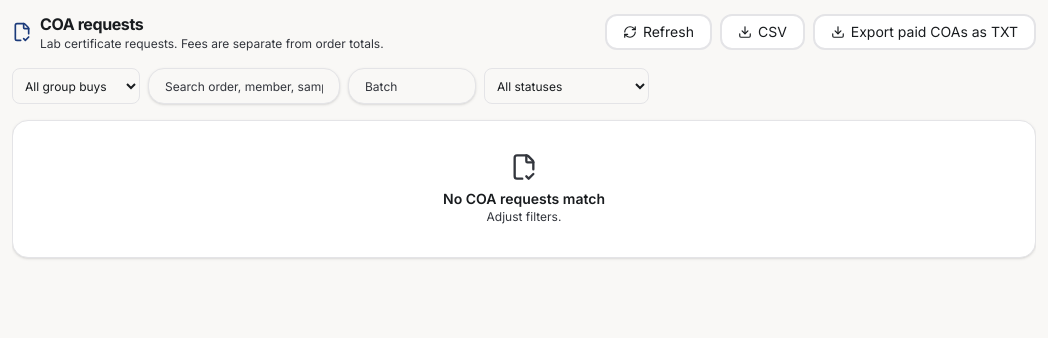
it: shows the server's no-paid-COAs error instead of downloading a file
What coordinates should you click on to do the following:
click the button "Export paid COAs as TXT"
I would click on:
 (924, 32)
Its box is [813,14,1036,50].
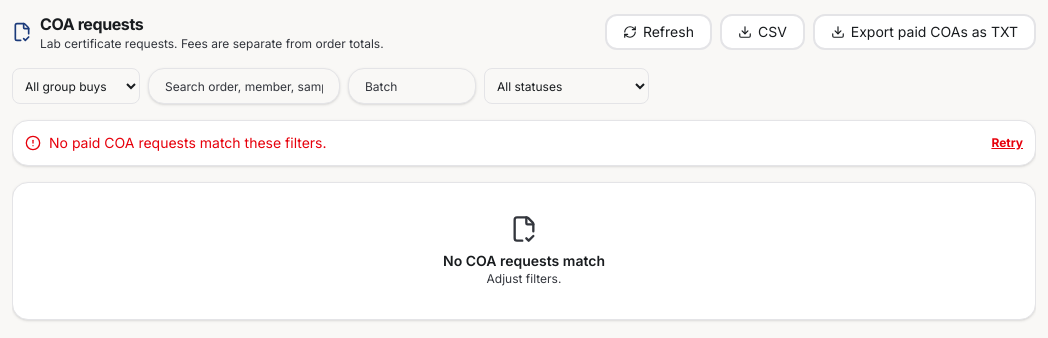
Result: the text "No paid COA requests match these filters." is shown at [49,134,326,151]
